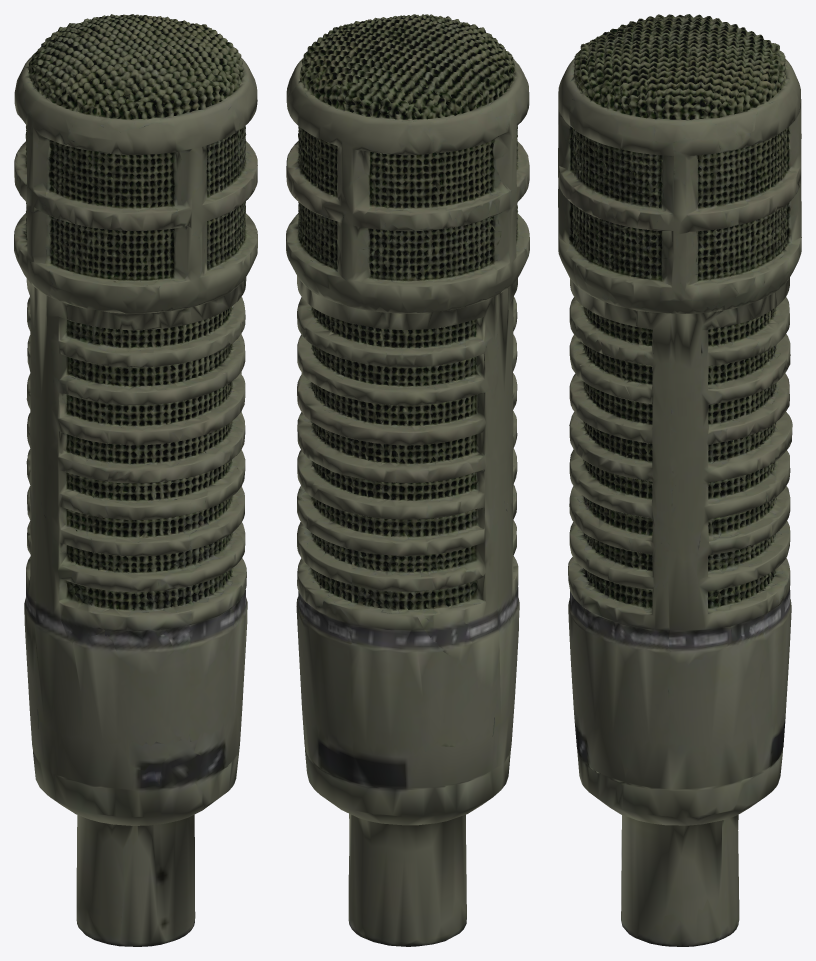
File: Electro-Voice RE20.glb
3 views of the same model, side by side, from view 1: azimuth 30°, elevation 25°; view 2: azimuth 150°, elevation 25°; view 3: azimuth 270°, elevation 25° (orthographic).
Parts seen in each view (by area): view 1: geometry_0; view 2: geometry_0; view 3: geometry_0.
Boxes of the visible parts, x1=… form: geometry_0: x1=14, y1=14, x2=257, y2=946; geometry_0: x1=286, y1=14, x2=529, y2=946; geometry_0: x1=558, y1=14, x2=801, y2=946.
Size of the model in its own units: 0.0545 by 0.2167 by 0.0542.
Materials: 1 (1 with a texture image).
